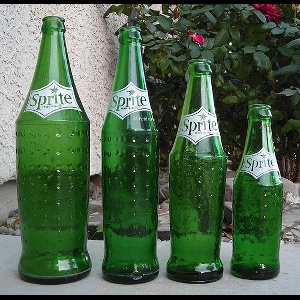emptybottle: (16, 13, 90, 285), (101, 27, 160, 284), (167, 59, 227, 284), (233, 104, 283, 280)
